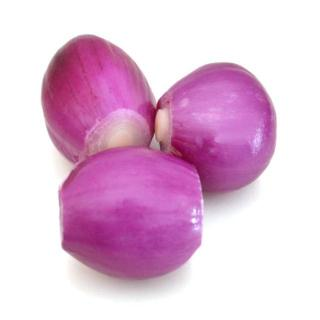Bawang Merah: (56, 146, 208, 282), (151, 60, 279, 194)
